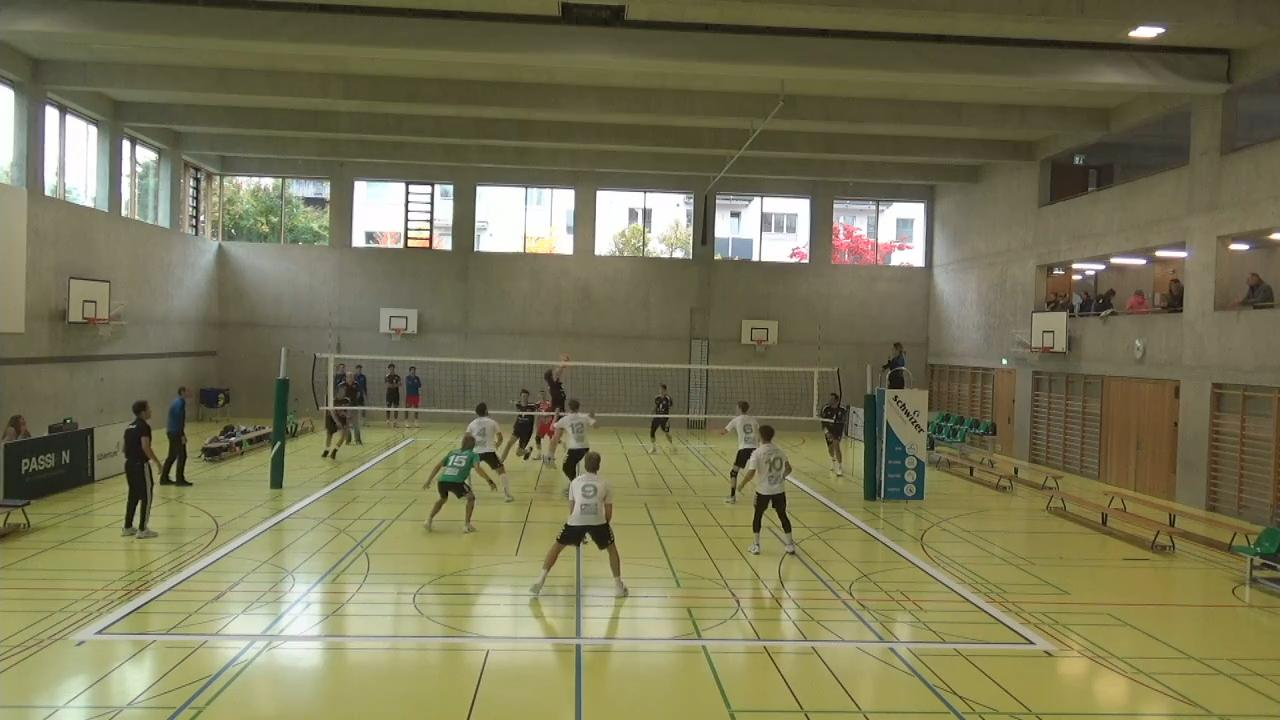Player: (532, 449, 629, 596), (744, 424, 797, 556), (461, 399, 513, 501), (424, 437, 478, 534), (557, 396, 594, 489), (722, 399, 755, 501), (318, 386, 352, 468), (820, 390, 849, 480), (508, 389, 539, 467), (647, 383, 677, 455), (534, 386, 557, 465)
Set: (540, 352, 570, 468)
ball: (560, 350, 572, 367)
